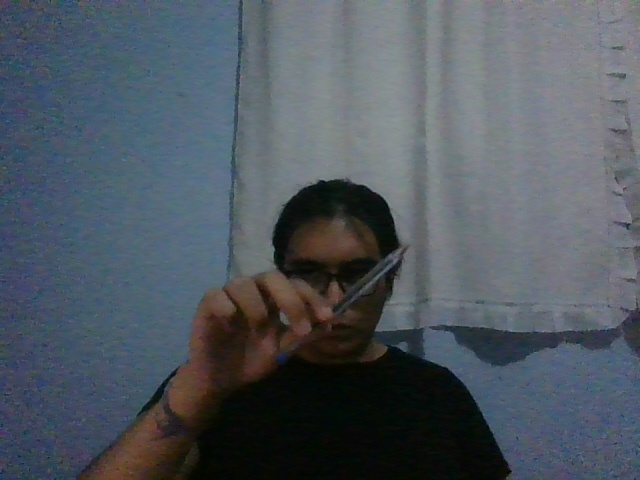pluma: (275, 242, 410, 366)
